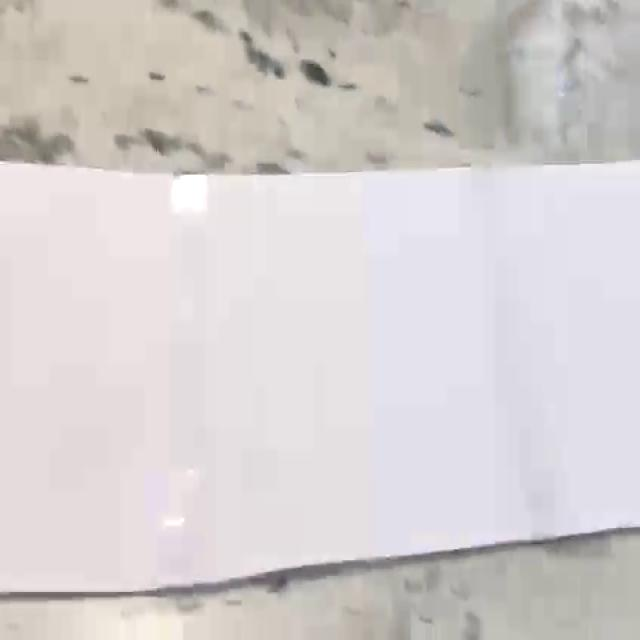road: (0, 160, 640, 595)
